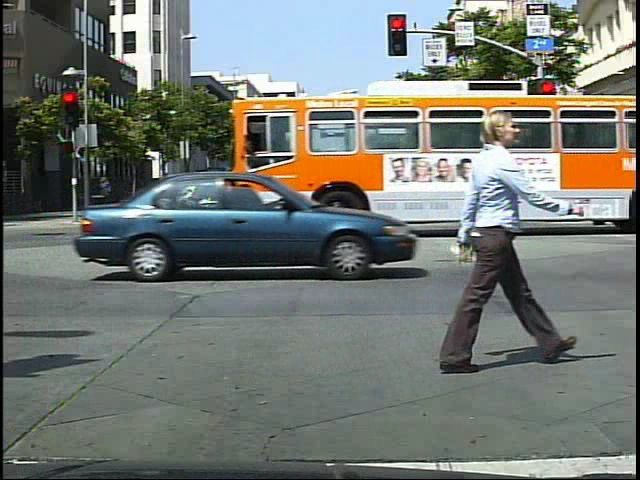person: (422, 93, 570, 395), (319, 164, 350, 228), (303, 166, 333, 230), (229, 166, 257, 232), (549, 160, 573, 211)
